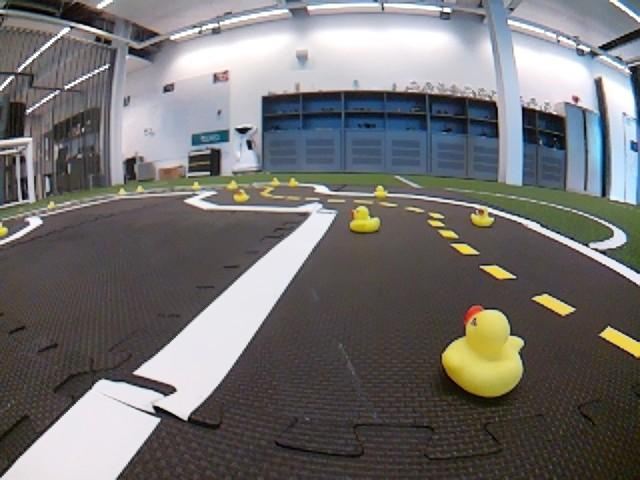Duckies: (442, 306, 524, 399), (349, 207, 380, 233), (470, 208, 495, 227), (233, 189, 249, 202), (374, 186, 389, 198), (0, 220, 8, 237), (288, 177, 298, 186), (228, 180, 238, 189), (191, 181, 200, 190), (271, 178, 280, 186), (48, 201, 55, 209), (135, 185, 143, 192), (118, 188, 126, 195)
